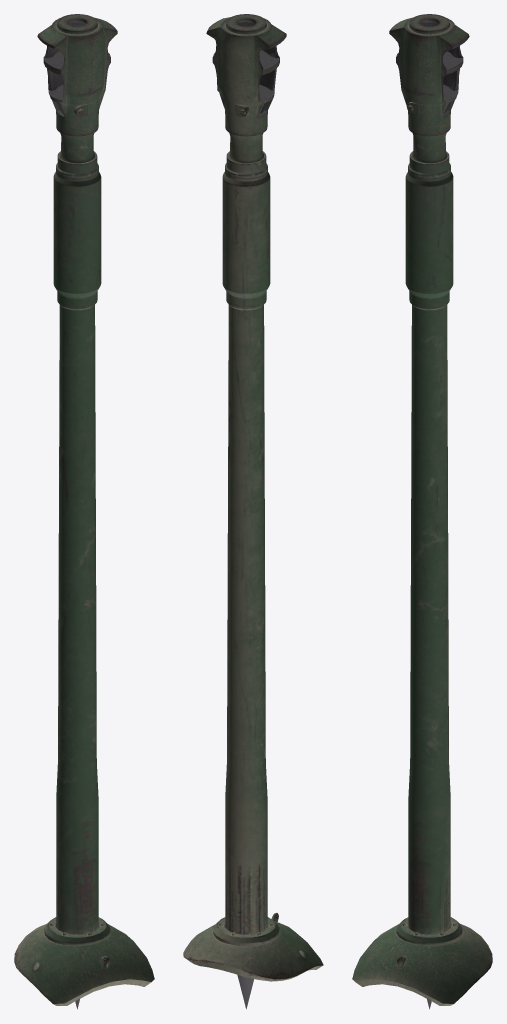
Rendered from Gun_02.glb.
The picture shows the model from 3 angles, left to right: view 1: azimuth 30°, elevation 25°; view 2: azimuth 150°, elevation 25°; view 3: azimuth 330°, elevation 25°; orthographic projection.
Visible parts, largest first — view 1: set_0_group_0; view 2: set_0_group_0; view 3: set_0_group_0.
Boxes of the visible parts, x1=… form: set_0_group_0: x1=14, y1=14, x2=154, y2=1009; set_0_group_0: x1=183, y1=14, x2=323, y2=1009; set_0_group_0: x1=352, y1=14, x2=492, y2=1009.
Bounding box in the file's own units: 0.7705 × 6.34 × 0.7224.
1 material, 1 textured.
